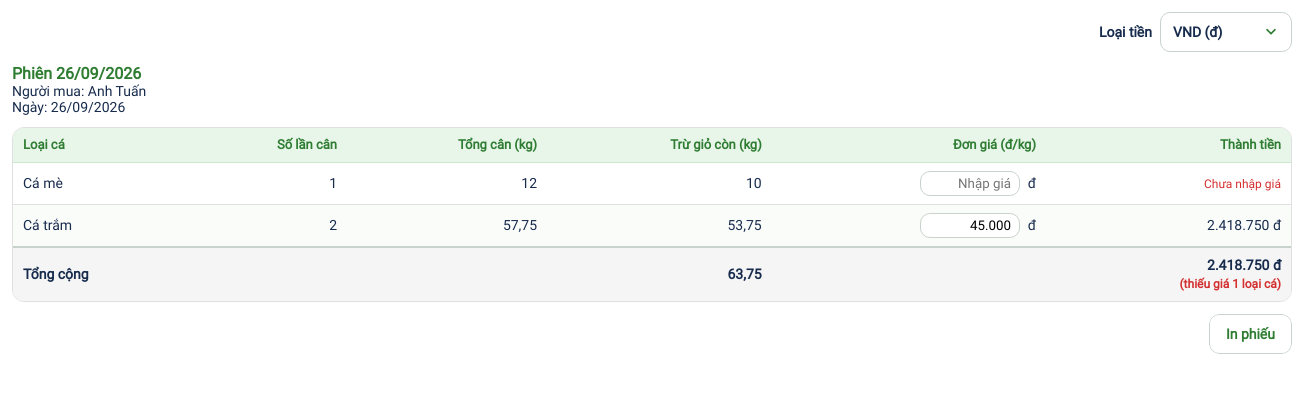
Test case: đổi loại tiền lỗi: hiện message, ô chọn trở về loại cũ
Click the button with id "currencySelect": (1226,32) [1160, 12, 1292, 52]
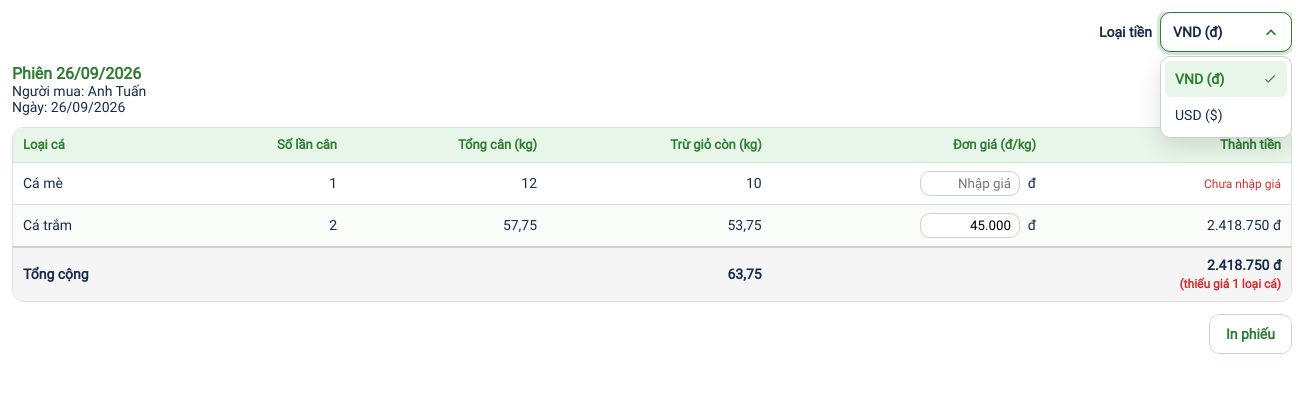
Click the option "USD ($)": (1199,115) [1175, 107, 1222, 123]
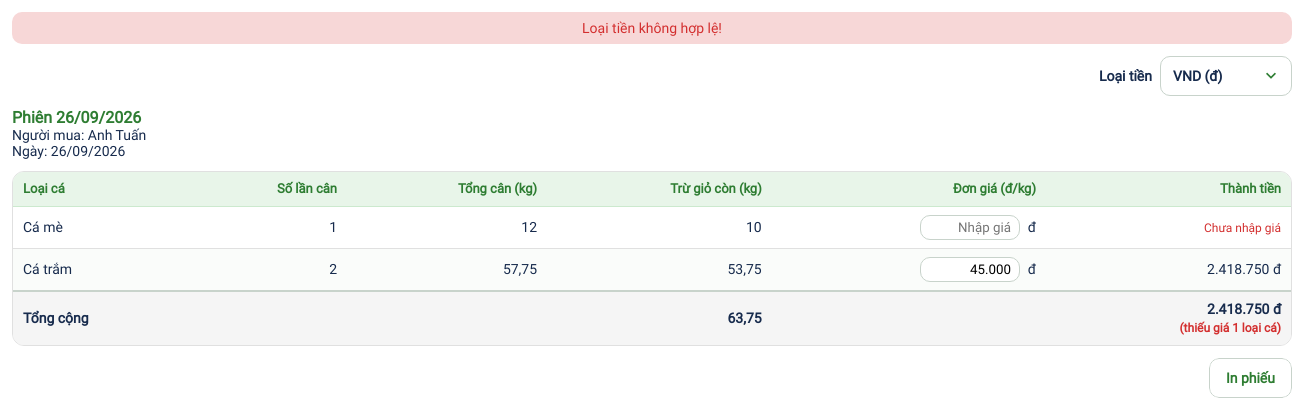
Expected: the button with id "currencySelect" reads "VND (đ)", [1160, 56, 1292, 96]
Expected: the text with class "error-message" reads "Loại tiền không hợp lệ!", [582, 20, 722, 36]
